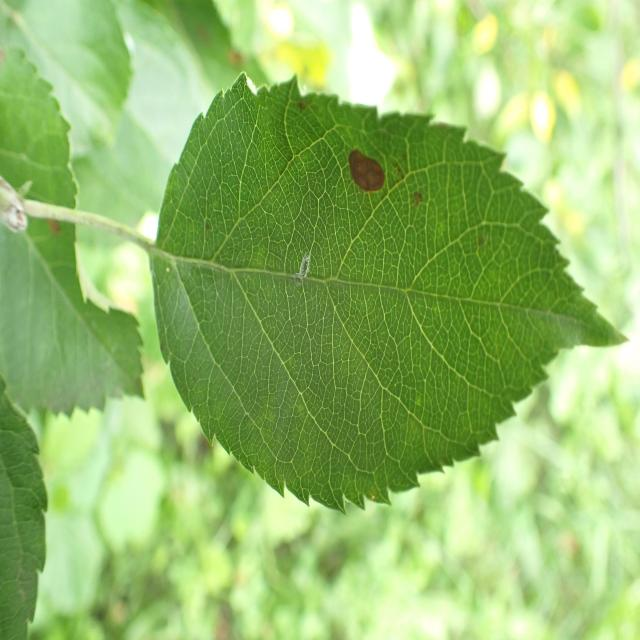Black Rot: (341, 142, 401, 204)
